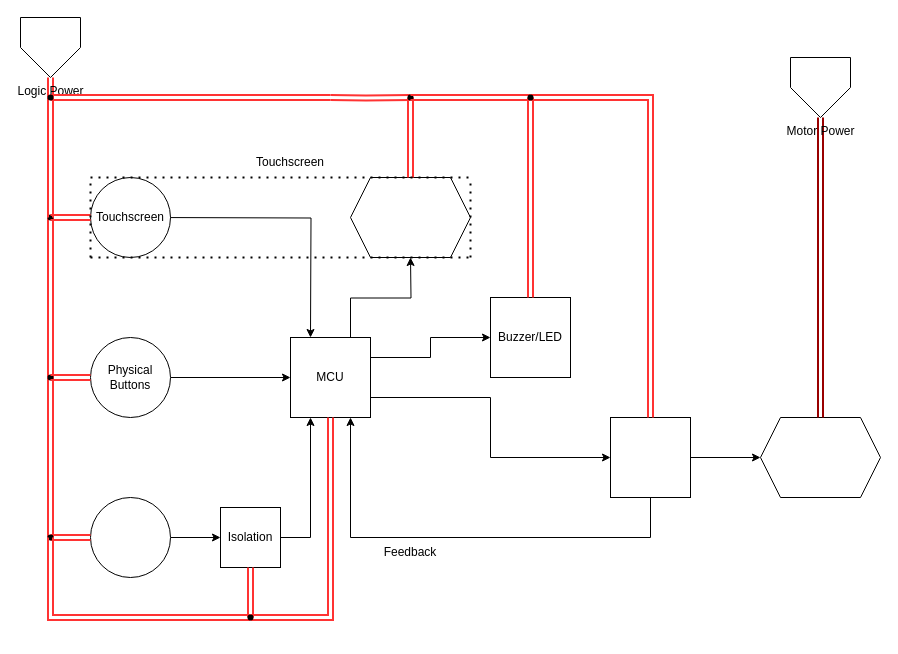
Some shapes in this 898 by 654 pixel diagram are drawn without their labels. The centre of each missing label's shape, as x and y in pixels:
"Motor" belongs at [820,457].
"Motor Driver" belongs at [650,457].
"Screen" belongs at [410,217].
"User Input Modulation" belongs at [130,537].
